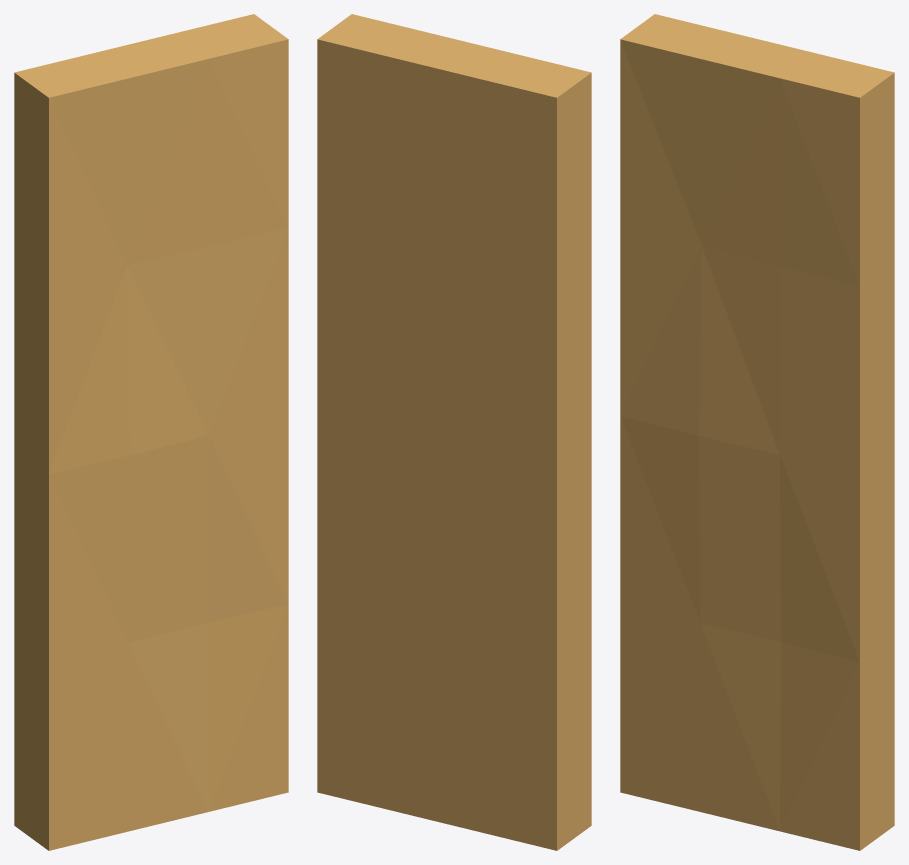
The model's file is SM_Wall_Panel_01.fbx.
3 views of the same model, side by side, from view 1: azimuth 30°, elevation 25°; view 2: azimuth 150°, elevation 25°; view 3: azimuth 330°, elevation 25° (orthographic).
Visible parts, largest first — view 1: SM_Wall_Panel_01; view 2: SM_Wall_Panel_01; view 3: SM_Wall_Panel_01.
Part boxes in pixels (x1=…): SM_Wall_Panel_01: x1=14, y1=14, x2=288, y2=850; SM_Wall_Panel_01: x1=317, y1=14, x2=591, y2=850; SM_Wall_Panel_01: x1=620, y1=14, x2=894, y2=850.
Bounding box in the file's own units: 1 × 3 × 0.2573.
1 material, 1 textured.
